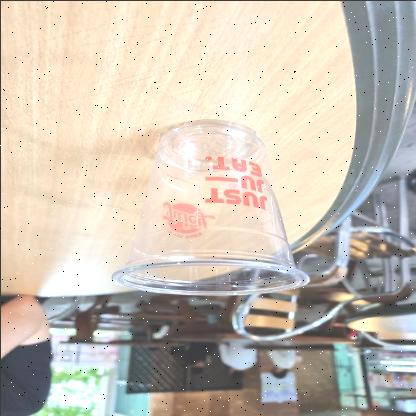Others: (108, 116, 312, 300)
